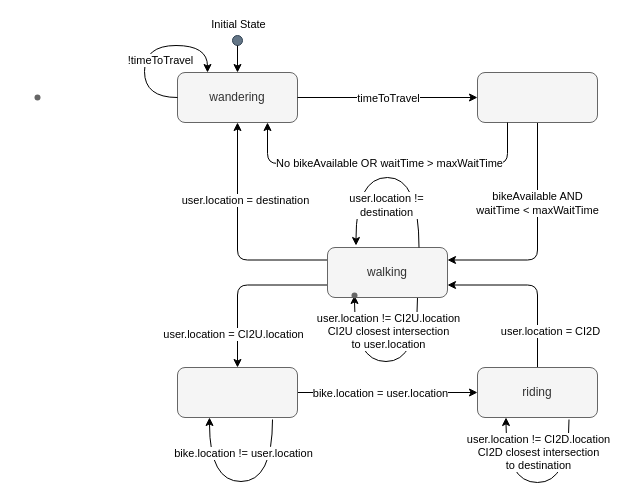
The diagram is 627 pixels wide and 500 high, and some of its shapes have lost their labels. Here are the shapes that lost their labels. From the top down, the box of each, then its label:
(476, 72, 598, 122): requesting bike
(176, 366, 298, 418): awaiting bike
